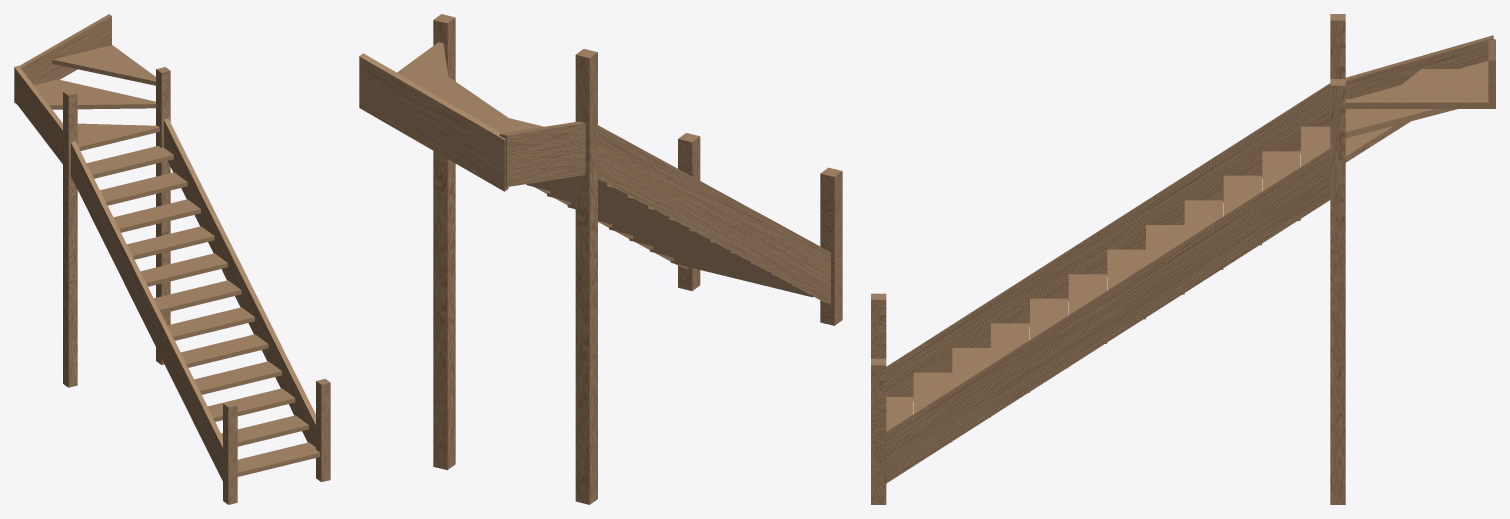
The model's file is Stairs.glb.
The picture shows the model from 3 angles, left to right: view 1: azimuth 30°, elevation 25°; view 2: azimuth 150°, elevation 25°; view 3: azimuth 270°, elevation 25°; orthographic projection. The views are drawn at different scales.
Visible parts, largest first — view 1: Cube, Side2, Side1, Newell.003, Side1.002, Newell.002, Cube.002, Side1.001, Cube.003, Newell.001, Newell, Cube.001; view 2: Side2, Newell.003, Side1.002, Newell.002, Cube, Side1.001, Newell.001, Cube.003, Cube.002, Newell; view 3: Side1, Side2, Cube, Newell.002, Cube.003, Side1.001, Newell, Cube.002, Cube.001, Newell.001, Newell.003.
Part boxes in pixels (x1,y1,x2,y2): Cube: (86, 146, 319, 476); Side2: (71, 141, 222, 480); Side1: (164, 118, 315, 458); Newell.003: (63, 89, 77, 387); Side1.002: (14, 14, 111, 104); Newell.002: (156, 67, 170, 364); Cube.002: (34, 79, 156, 109); Side1.001: (14, 65, 62, 163); Cube.003: (52, 45, 155, 85); Newell.001: (223, 401, 237, 504); Newell: (316, 378, 330, 482); Cube.001: (77, 123, 159, 150); Side2: (598, 125, 830, 303); Newell.003: (575, 49, 597, 504); Side1.002: (359, 53, 508, 191); Newell.002: (433, 14, 455, 470); Cube: (526, 176, 814, 297); Side1.001: (499, 121, 585, 186); Newell.001: (820, 167, 842, 325); Cube.003: (397, 42, 452, 104); Cube.002: (446, 77, 525, 159); Newell: (678, 133, 700, 290); Side1: (886, 148, 1330, 483); Side2: (886, 83, 1330, 400); Cube: (886, 126, 1330, 442); Newell.002: (1330, 79, 1345, 504); Cube.003: (1345, 61, 1491, 108); Side1.001: (1345, 35, 1493, 98); Newell: (871, 358, 886, 504); Cube.002: (1345, 69, 1457, 138); Cube.001: (1345, 99, 1410, 162); Newell.001: (871, 293, 886, 358); Newell.003: (1330, 14, 1345, 78).
Size of the model in its own units: 1.1 by 3.16 by 4.05.
3 materials, 3 textured.
